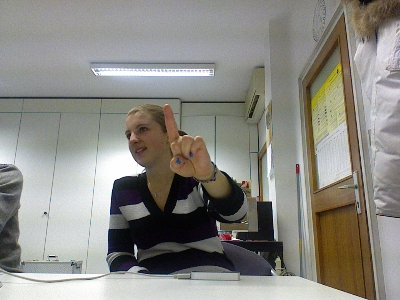食指: (161, 102, 214, 179)
